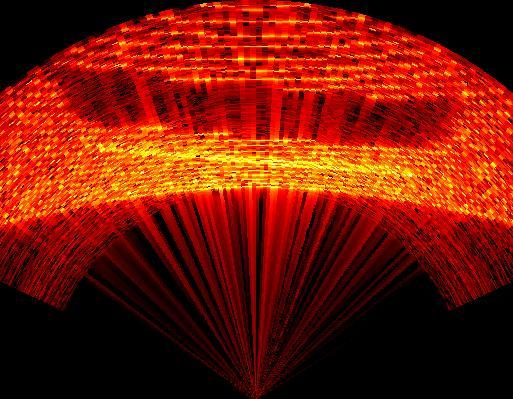pipe: (50, 65, 470, 174)
